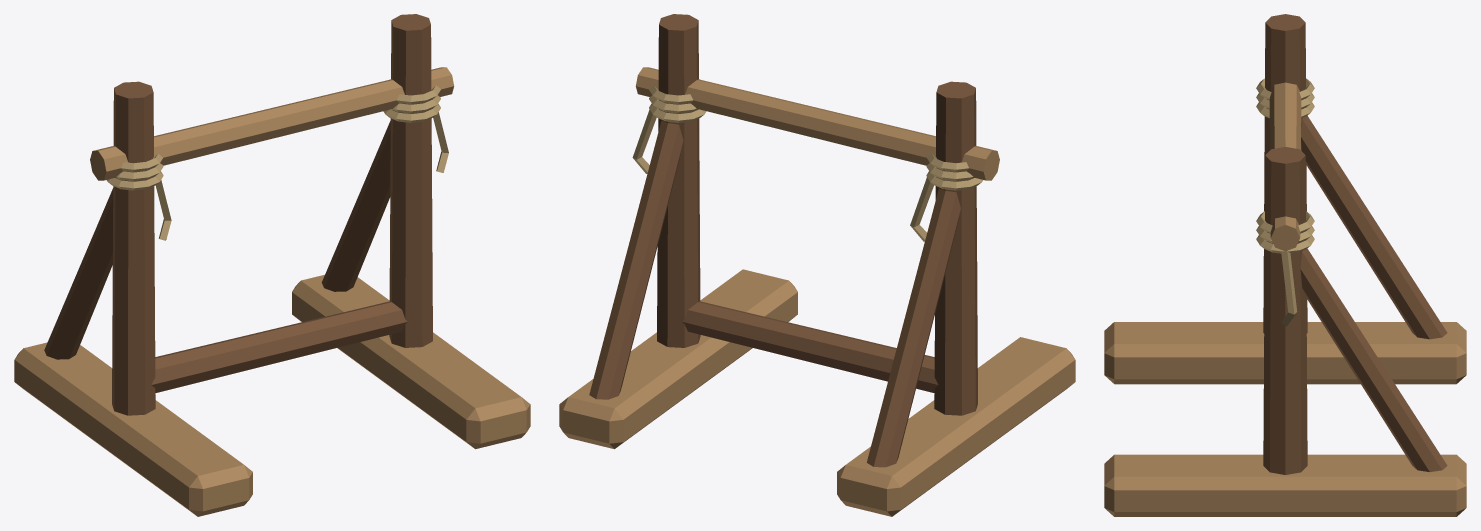
3 renders of one model, left to right at view 1: azimuth 30°, elevation 25°; view 2: azimuth 150°, elevation 25°; view 3: azimuth 270°, elevation 25°, orthographic.
Parts seen in each view (by area): view 1: BA-0015 batched; view 2: BA-0015 batched; view 3: BA-0015 batched.
Boxes of the visible parts, x1,y1,x2,y2 form: BA-0015 batched: (14,14,530,516); BA-0015 batched: (559,14,1075,516); BA-0015 batched: (1104,14,1466,516).
Bounding box in the file's own units: 0.9971 × 0.96 × 0.9.
